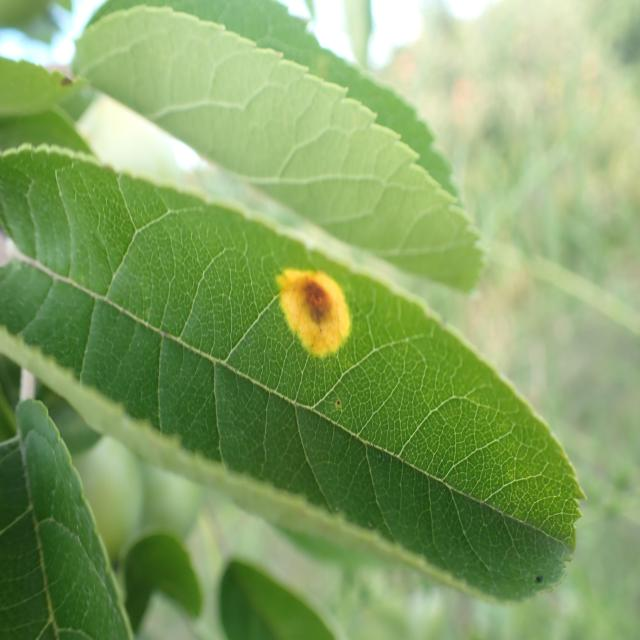Rust: (268, 236, 360, 376)
